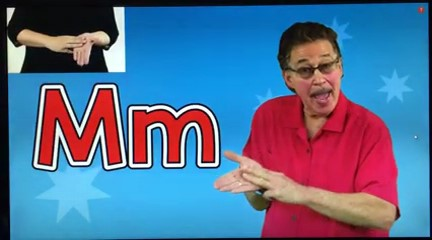M: (45, 26, 102, 70)
